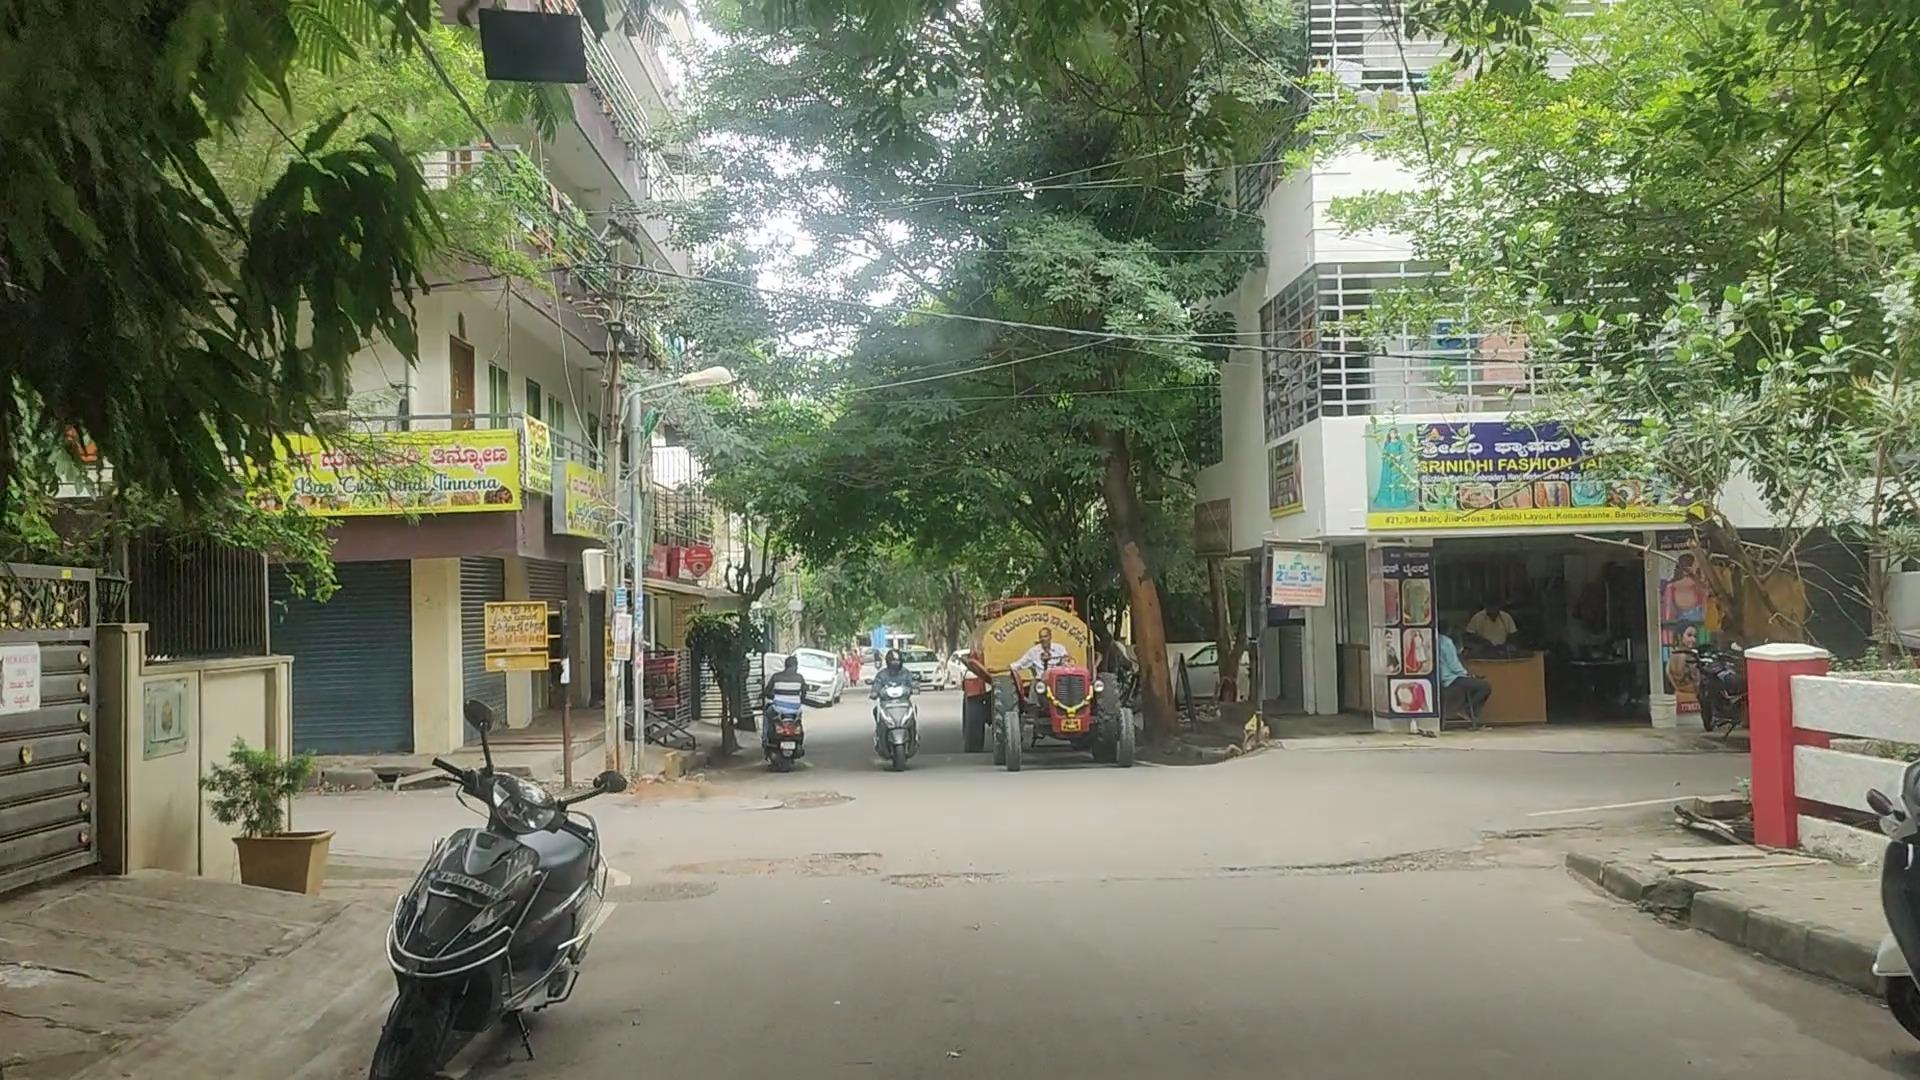HMV: (963, 596, 1137, 764)
LMV: (398, 748, 611, 1080), (771, 659, 818, 770), (882, 651, 923, 765)
RoadDamages: (1229, 822, 1497, 898), (666, 844, 890, 905), (735, 781, 852, 832), (893, 857, 1010, 905)
